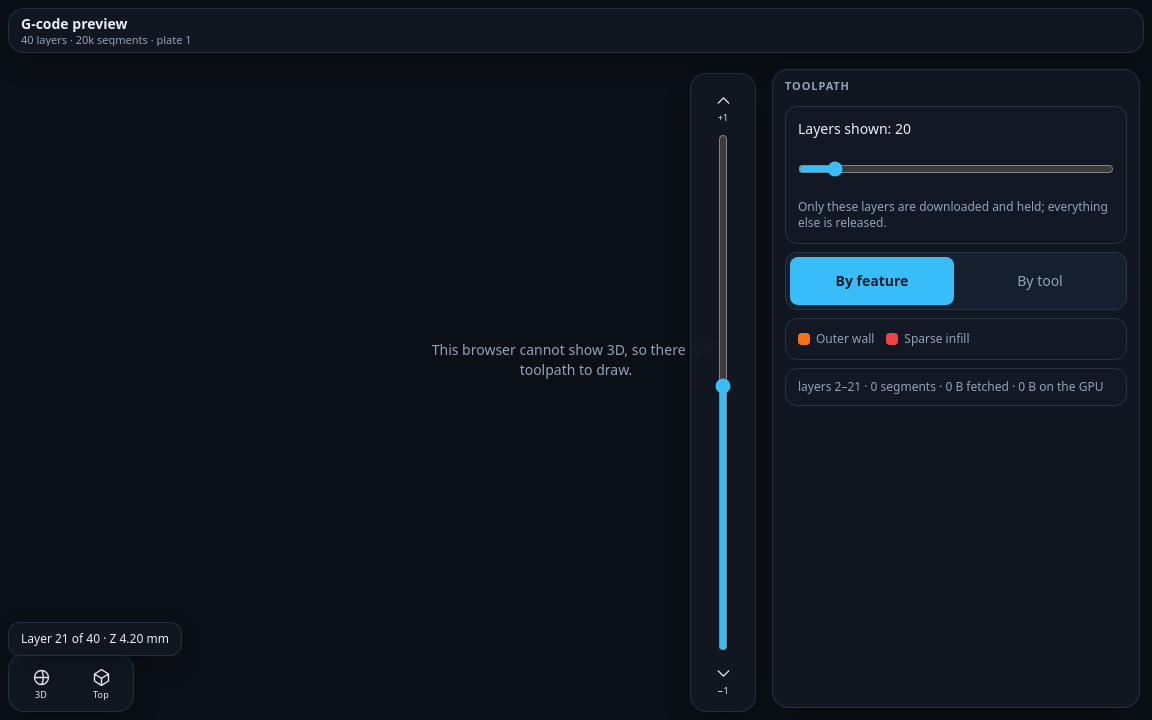
Test: PreviewView › offers both colour modes
Expected: the tab with test id "preview-colour-feature" is shown, [790, 257, 954, 305]
Click the tab with test id "preview-colour-tool". click: x=1040, y=281
box: [958, 257, 1122, 305]
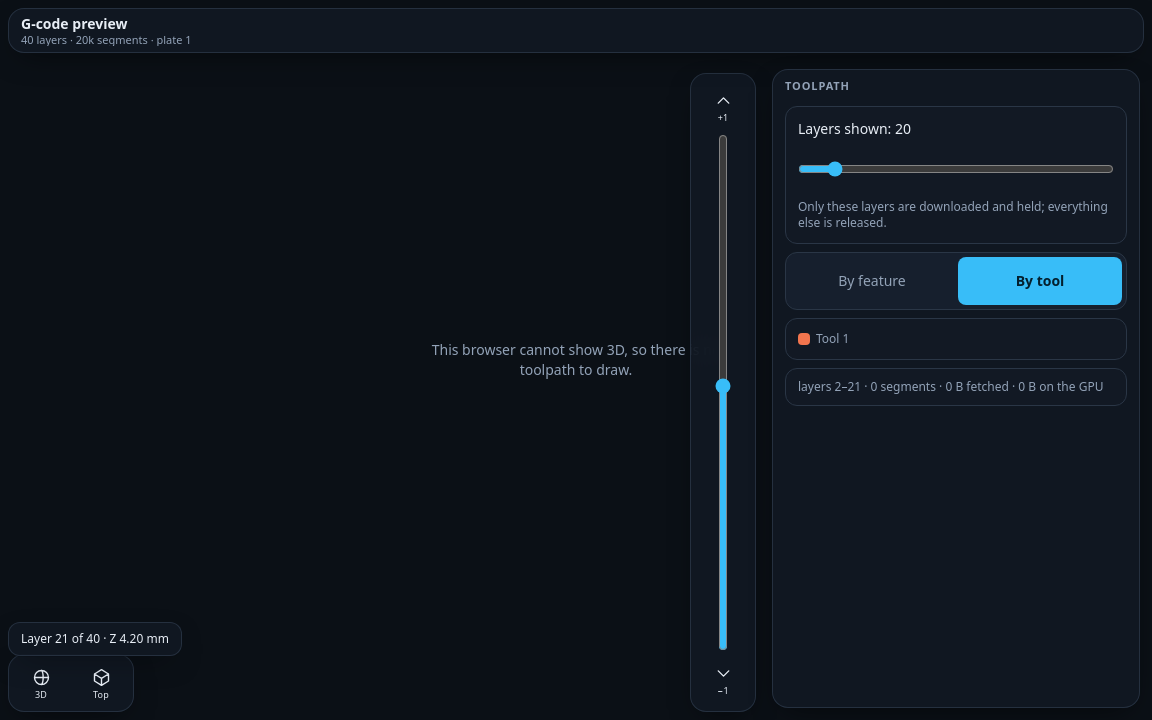
Now the element with test id "preview-legend" reads "Tool 1", box [816, 330, 849, 347]
